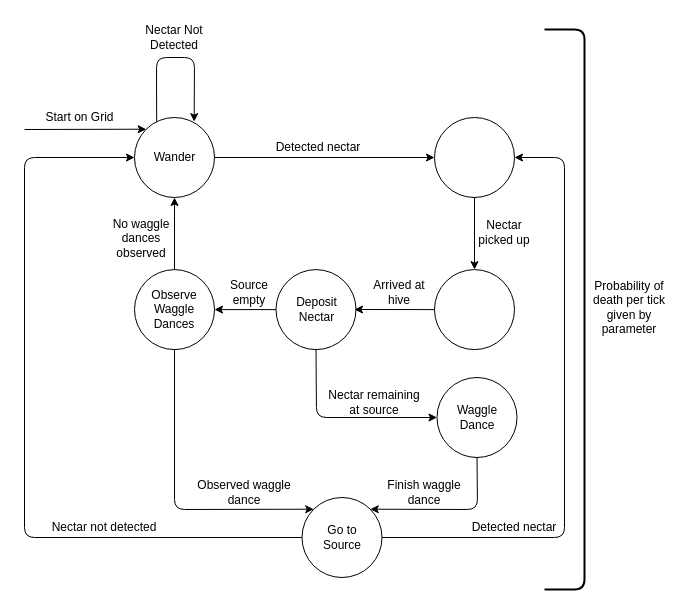
Some shapes in this 692 by 609 pixel diagram are drawn without their labels. The shapes that lost their labels are listed below. From the top down, each one's box as (x1, y1, x2, y2) in pixels, then its label:
(434, 116, 514, 198): Pick up Nectar
(434, 269, 514, 350): Return to Hive
